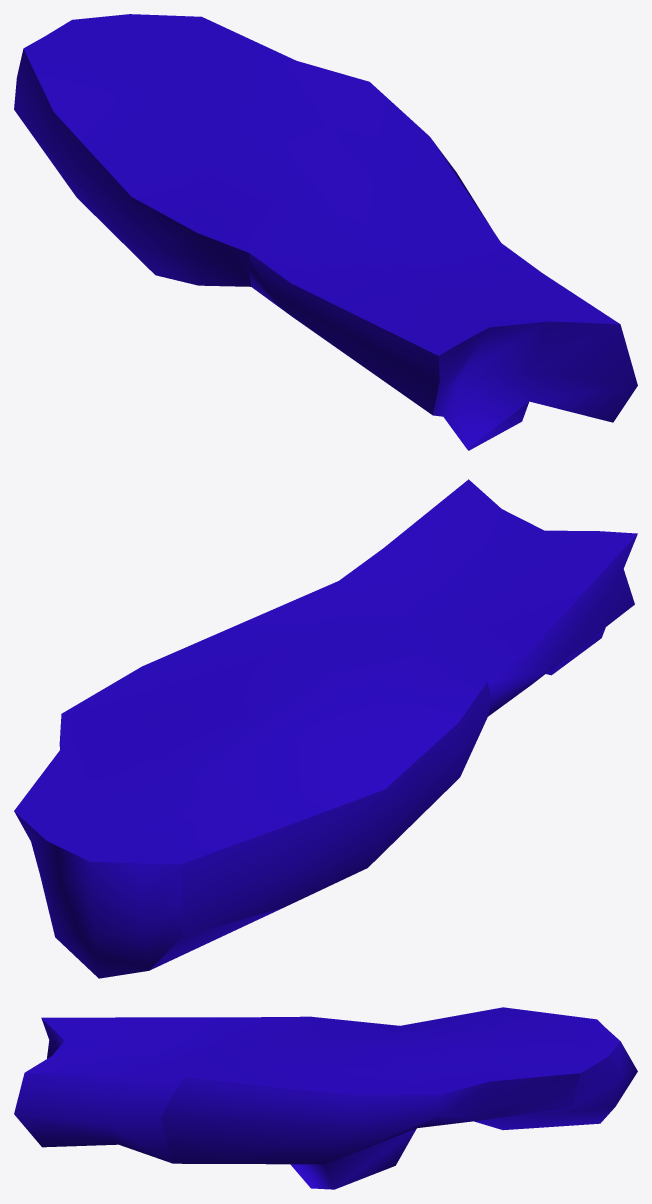
The model's file is LargePlatform2.fbx.
3 renders of one model, top to bottom at view 1: azimuth 30°, elevation 25°; view 2: azimuth 150°, elevation 25°; view 3: azimuth 270°, elevation 25°, orthographic. The views are drawn at different scales.
Parts seen in each view (by area): view 1: Box362; view 2: Box362; view 3: Box362.
Boxes of the visible parts, x1,y1,x2,y2 form: Box362: (14,14,637,450); Box362: (14,479,637,978); Box362: (14,1007,637,1189).
Bounding box in the file's own units: 1870 × 5225 × 1118.
